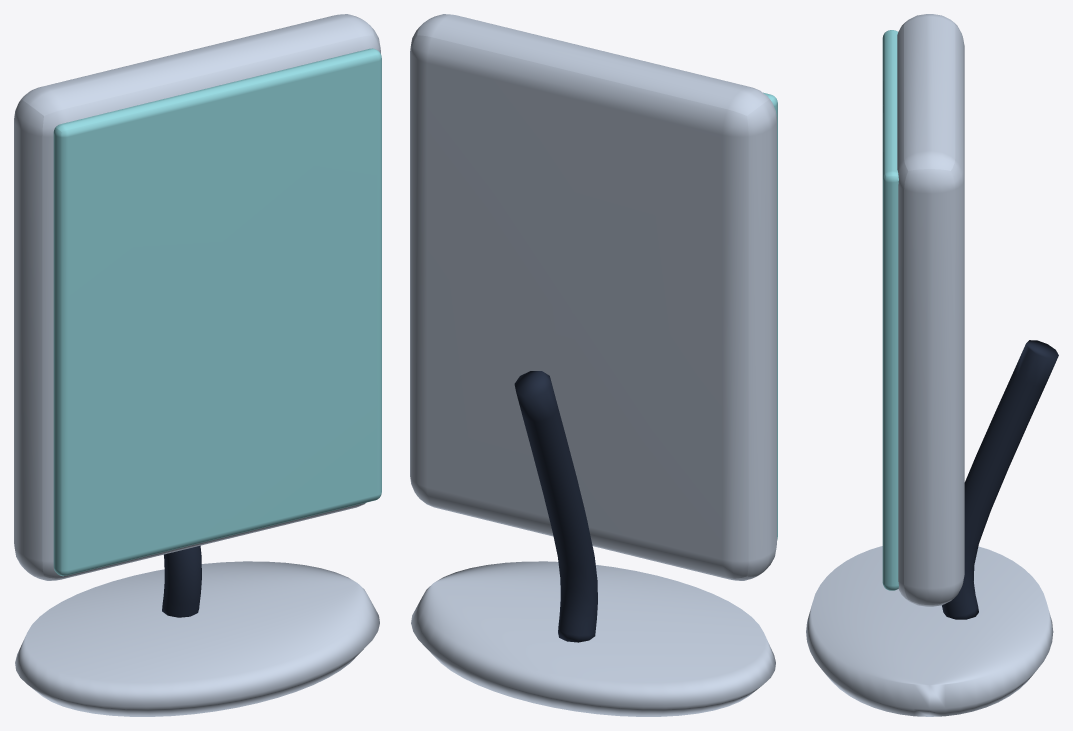
Rendered from fitting.glb.
3 renders of one model, left to right at view 1: azimuth 30°, elevation 25°; view 2: azimuth 150°, elevation 25°; view 3: azimuth 270°, elevation 25°, orthographic. The views are drawn at different scales.
Parts seen in each view (by area): view 1: Mirror_lens, Mirror_alloy, Mirror_graphite; view 2: Mirror_alloy, Mirror_graphite; view 3: Mirror_alloy, Mirror_lens, Mirror_graphite.
Part boxes in pixels (<box>): Mirror_lens: <box>53,48,381,576</box>; Mirror_alloy: <box>14,14,380,716</box>; Mirror_graphite: <box>162,545,201,617</box>; Mirror_alloy: <box>410,14,776,716</box>; Mirror_graphite: <box>514,371,597,642</box>; Mirror_alloy: <box>806,14,1053,716</box>; Mirror_lens: <box>882,30,898,590</box>; Mirror_graphite: <box>942,340,1058,619</box>.
Bounding box in the file's own units: 0.71 × 1.16 × 0.4706.
